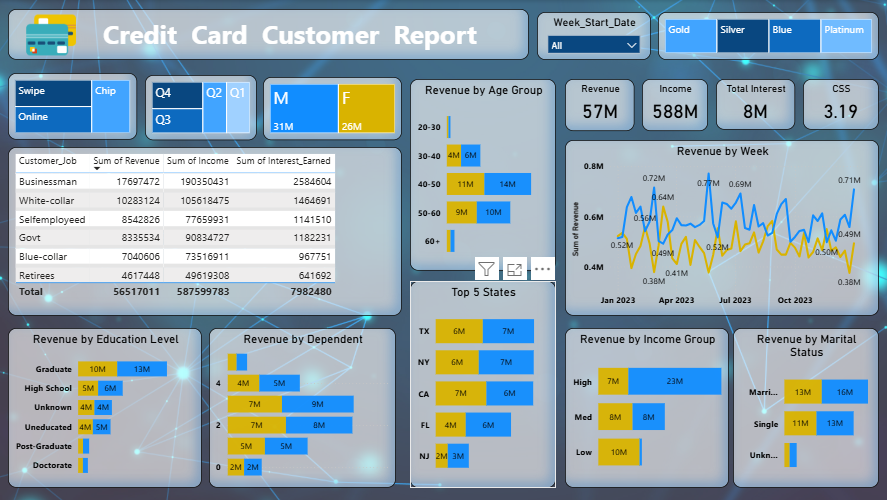

Layout of this report page (visuals, bound fields, positions):
{"tool":"powerbi","page":{"name":"CC Customer","canvas":[1280,720],"ordinal":0},"visuals":[{"type":"textbox","box":[11.5,13,750.2,73.4],"z":0},{"type":"barChart","title":" Revenue by Income Group","fields":{"Y":["Sum(ccdb cc_detail.Revenue)"],"Category":["ccdb cust_detail.IncomeGroup"],"Series":["ccdb cust_detail.Gender"]},"box":[813.6,472.3,236.2,230.4],"z":1000},{"type":"tableEx","fields":{"Values":["ccdb cust_detail.Customer_Job","Sum(ccdb cc_detail.Revenue)","Sum(ccdb cust_detail.Income)","Sum(ccdb cc_detail.Interest_Earned)"]},"box":[11.5,211.7,567.4,243.4],"z":2000},{"type":"card","title":"Revenue","fields":{"Values":["Sum(ccdb cc_detail.Revenue)"]},"box":[813.6,113.8,100.5,74.9],"z":3000},{"type":"card","title":"Income","fields":{"Values":["Sum(ccdb cust_detail.Income)"]},"box":[924.5,113.8,95,74.9],"z":4000},{"type":"card","title":"Total Interest","fields":{"Values":["Sum(ccdb cc_detail.Interest_Earned)"]},"box":[1031,113.8,113.8,73.4],"z":5000},{"type":"card","title":"CSS","fields":{"Values":["Avg(ccdb cust_detail.Cust_Satisfaction_Score)"]},"box":[1156.9,113.8,108.9,73.4],"z":6000},{"type":"slicer","title":"Week_Start_Date","fields":{"Values":["ccdb cc_detail.Week_Start_Date"]},"box":[773.3,17.3,164.2,69.1],"z":7000},{"type":"treemap","fields":{"Group":["ccdb cc_detail.Qtr"],"Values":["Avg(ccdb cc_detail.Client_Num)"]},"box":[208.8,108,161.3,93.6],"z":8000},{"type":"treemap","fields":{"Values":["Avg(ccdb cc_detail.Client_Num)"],"Group":["ccdb cc_detail.Card_Category"]},"box":[947.5,17.3,318.2,69.1],"z":9000},{"type":"lineChart","title":" Revenue by Week","fields":{"Y":["Sum(ccdb cc_detail.Revenue)"],"Series":["ccdb cust_detail.Gender"],"Category":["ccdb cc_detail.Week_Start_Date.Variation.Date Hierarchy.Year","ccdb cc_detail.Week_Start_Date.Variation.Date Hierarchy.Month","ccdb cc_detail.Week_Start_Date.Variation.Date Hierarchy.Day"]},"box":[813.6,201.6,452.2,253.4],"z":10000},{"type":"treemap","fields":{"Group":["ccdb cust_detail.Gender"],"Values":["Sum(ccdb cc_detail.Revenue)"]},"box":[378.7,110.9,200.2,90.7],"z":11000},{"type":"barChart","title":" Revenue by Age Group","fields":{"Y":["Sum(ccdb cc_detail.Revenue)"],"Category":["ccdb cust_detail.AgeGroup"],"Series":["ccdb cust_detail.Gender"]},"box":[590.4,113.8,210.2,276.5],"z":12000},{"type":"barChart","title":" Revenue by Dependent","fields":{"Y":["Sum(ccdb cc_detail.Revenue)"],"Category":["ccdb cust_detail.Dependent_Count"],"Series":["ccdb cust_detail.Gender"]},"box":[301,472.3,269.3,230.4],"z":13000},{"type":"barChart","title":" Revenue by Education Level","fields":{"Y":["Sum(ccdb cc_detail.Revenue)"],"Category":["ccdb cust_detail.Education_Level"],"Series":["ccdb cust_detail.Gender"]},"box":[11.5,472.3,279.4,230.4],"z":14000},{"type":"barChart","title":"Top 5 States","fields":{"Y":["Sum(ccdb cc_detail.Revenue)"],"Category":["ccdb cust_detail.State_cd"],"Series":["ccdb cust_detail.Gender"]},"box":[590.4,404.6,210.2,298.1],"z":15000},{"type":"barChart","title":" Revenue by Marital Status","fields":{"Y":["Sum(ccdb cc_detail.Revenue)"],"Category":["ccdb cust_detail.Marital_Status"],"Series":["ccdb cust_detail.Gender"]},"box":[1055.5,472.3,210.2,230.4],"z":16000},{"type":"treemap","fields":{"Values":["Avg(ccdb cc_detail.Client_Num)"],"Group":["ccdb cc_detail.Use_Chip"]},"box":[11.5,105.1,185.8,96.5],"z":17000},{"type":"image","box":[11.5,15.8,123.8,69.1],"z":18000}]}

Visuals, with their boxes in screenshot pixels (x1, y1, x2, y2), scaled from the page's 1280x720 canvas onto the 887x500 screenshot:
textbox: rect(8, 9, 528, 60)
" Revenue by Income Group" barChart: rect(564, 328, 727, 488)
tableEx - ccdb cust_detail.Customer_Job x Sum(ccdb cc_detail.Revenue): rect(8, 147, 401, 316)
"Revenue" card: rect(564, 79, 633, 131)
"Income" card: rect(641, 79, 706, 131)
"Total Interest" card: rect(714, 79, 793, 130)
"CSS" card: rect(802, 79, 877, 130)
"Week_Start_Date" slicer: rect(536, 12, 650, 60)
treemap - ccdb cc_detail.Qtr x Avg(ccdb cc_detail.Client_Num): rect(145, 75, 256, 140)
treemap - Avg(ccdb cc_detail.Client_Num) x ccdb cc_detail.Card_Category: rect(657, 12, 877, 60)
" Revenue by Week" lineChart: rect(564, 140, 877, 316)
treemap - ccdb cust_detail.Gender x Sum(ccdb cc_detail.Revenue): rect(262, 77, 401, 140)
" Revenue by Age Group" barChart: rect(409, 79, 555, 271)
" Revenue by Dependent" barChart: rect(209, 328, 395, 488)
" Revenue by Education Level" barChart: rect(8, 328, 202, 488)
"Top 5 States" barChart: rect(409, 281, 555, 488)
" Revenue by Marital Status" barChart: rect(731, 328, 877, 488)
treemap - Avg(ccdb cc_detail.Client_Num) x ccdb cc_detail.Use_Chip: rect(8, 73, 137, 140)
image: rect(8, 11, 94, 59)
